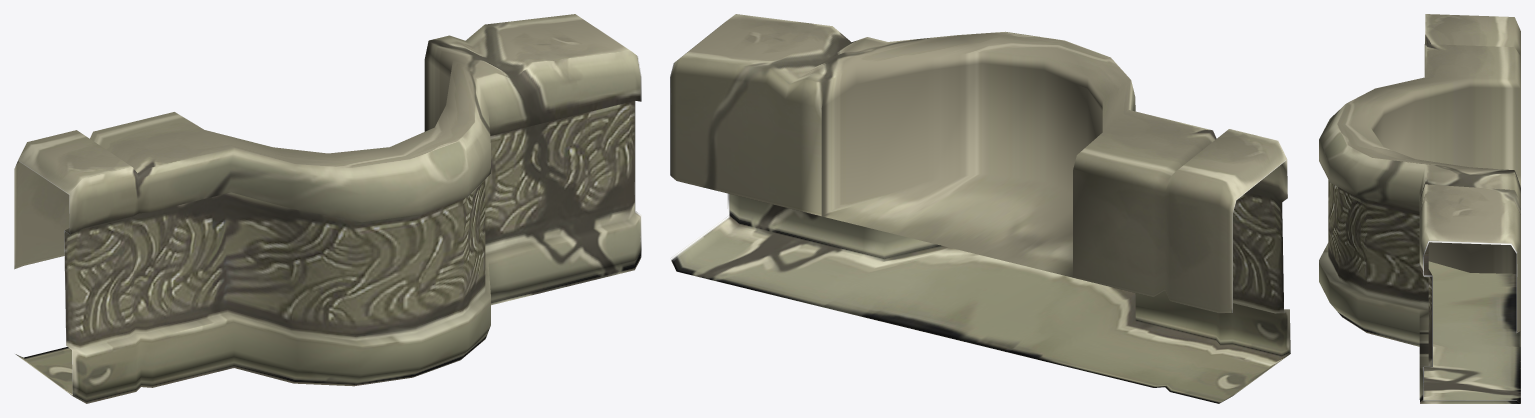
Rendered from walltop_1_indent.fbx.
3 views of the same model, side by side, from view 1: azimuth 30°, elevation 25°; view 2: azimuth 150°, elevation 25°; view 3: azimuth 270°, elevation 25° (orthographic). The views are drawn at different scales.
Visible parts, largest first — view 1: wallcap11; view 2: wallcap11; view 3: wallcap11.
Part boxes in pixels (left/top/right/bottom): wallcap11: left=14, top=14, right=641, bottom=403; wallcap11: left=670, top=14, right=1290, bottom=403; wallcap11: left=1319, top=14, right=1520, bottom=403.
Bounding box in the file's own units: 2 × 0.7662 × 0.7712.
